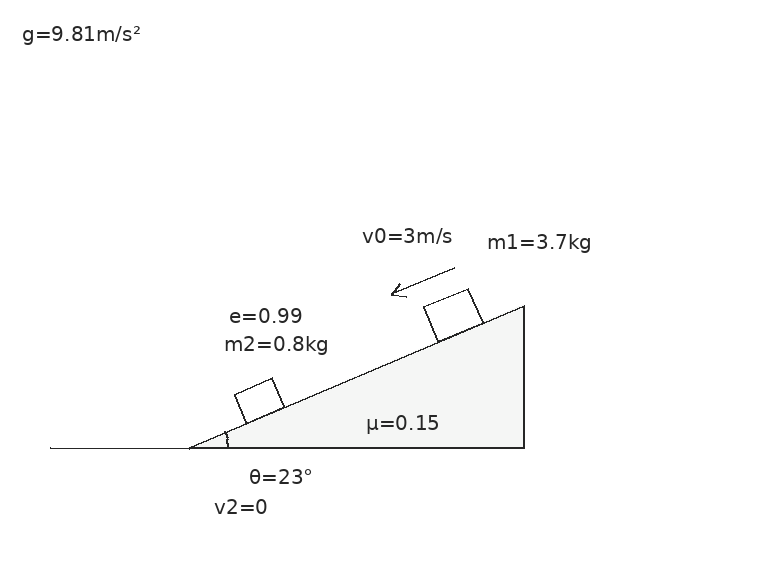block: (421, 287, 484, 343), (231, 376, 286, 425)
ramp: (186, 303, 525, 449)
